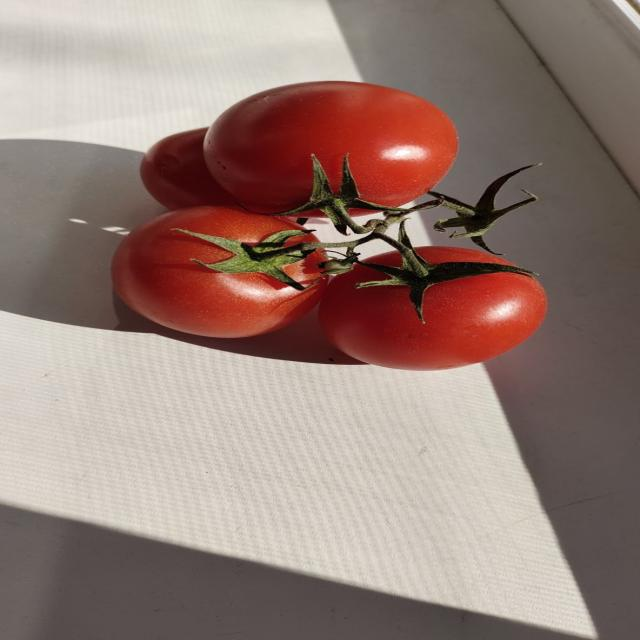tomato: (205, 81, 457, 212), (112, 206, 326, 337), (320, 265, 546, 369), (140, 128, 235, 209)
